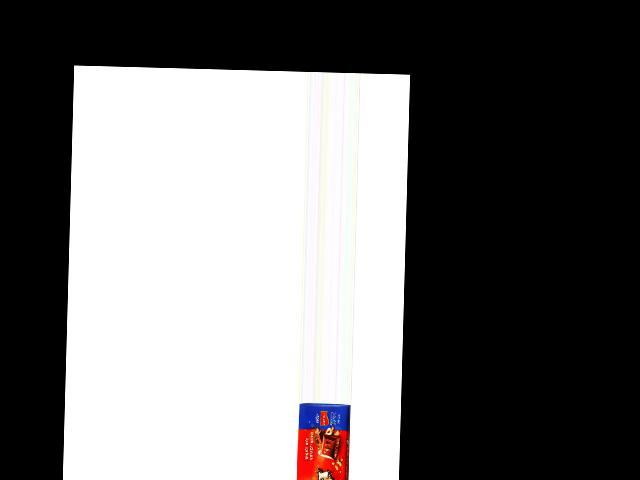chocolate: (296, 403, 350, 480)
